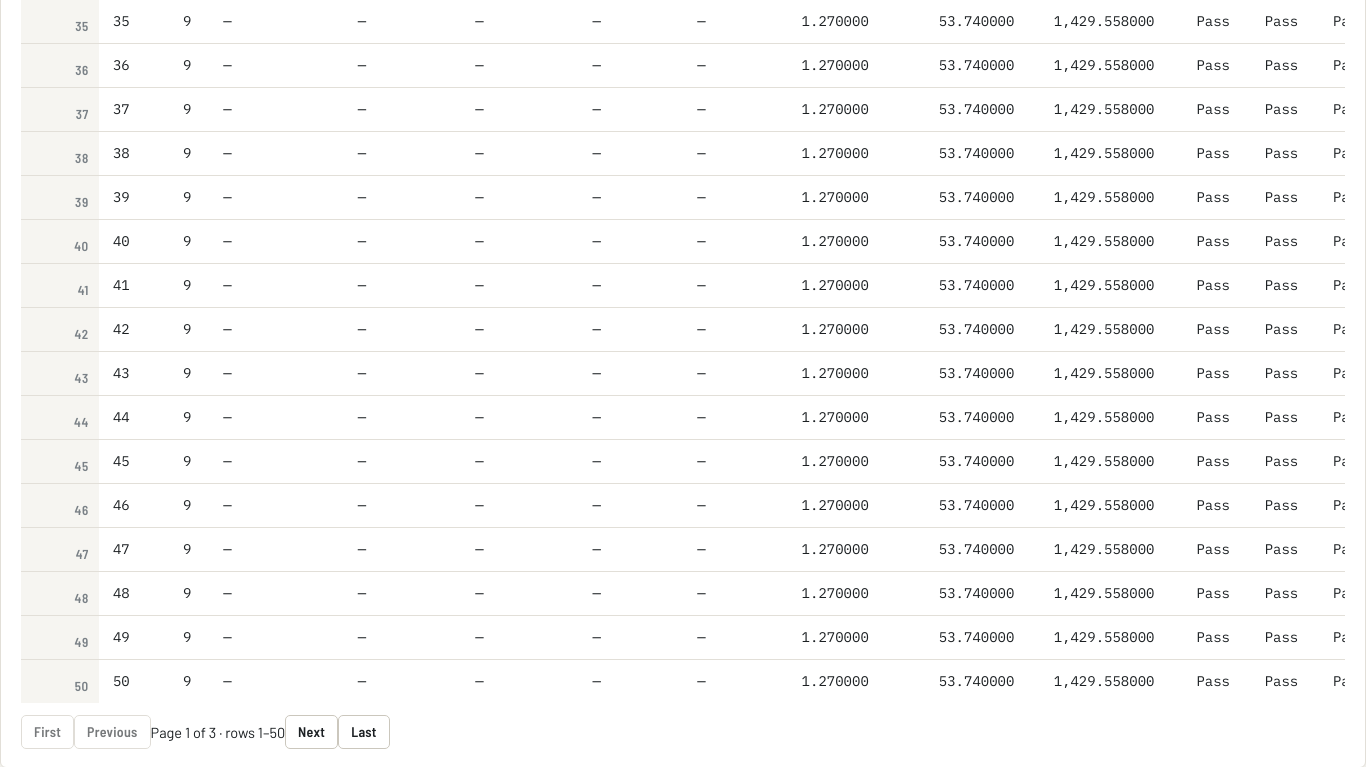
it: allows the first and last attempt to be viewed when more than fifty rows exist
This screenshot has width=1366, height=767.
(page scrolled)
Click the button "Last" at (364, 732), box [338, 715, 390, 749]
(page scrolled)
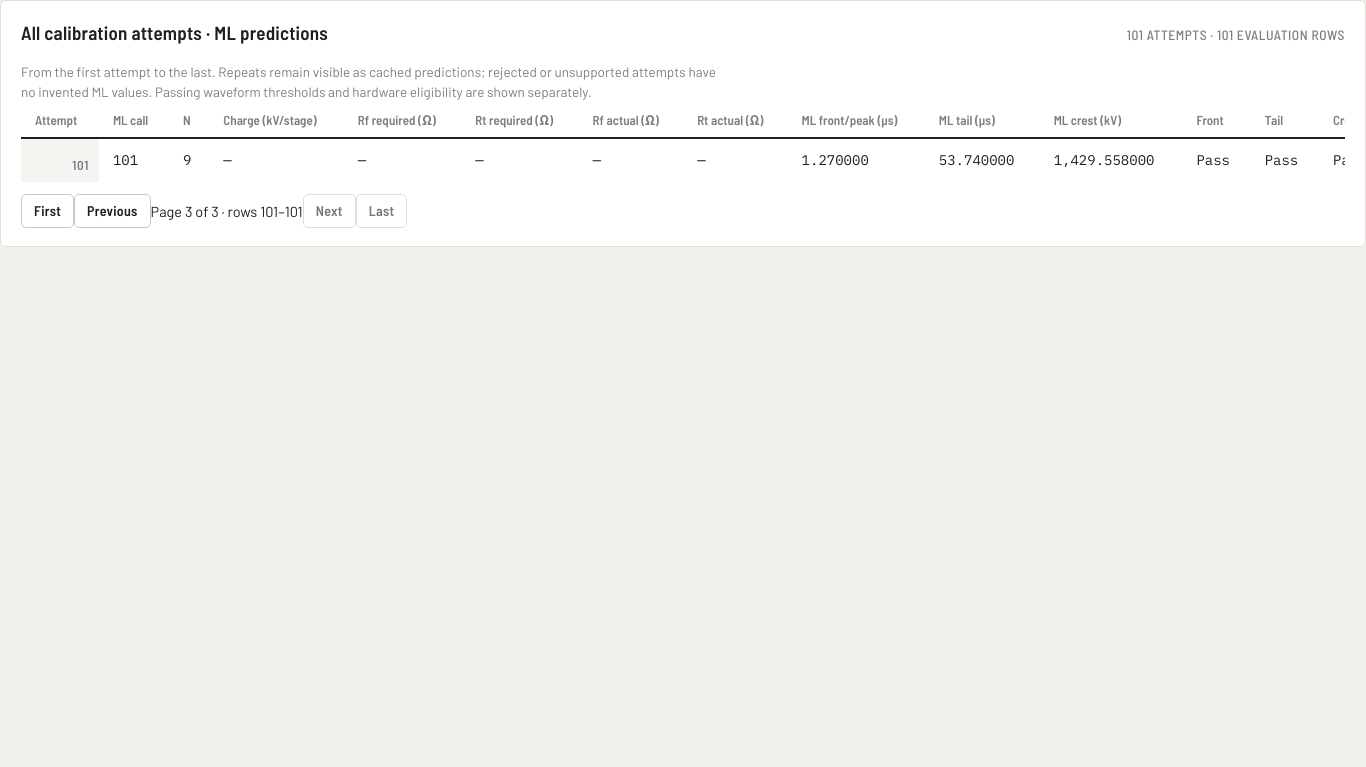
Result: the column heading "101" is shown at [21, 138, 99, 182]
Click the button "First" at (48, 211), box [21, 194, 74, 228]
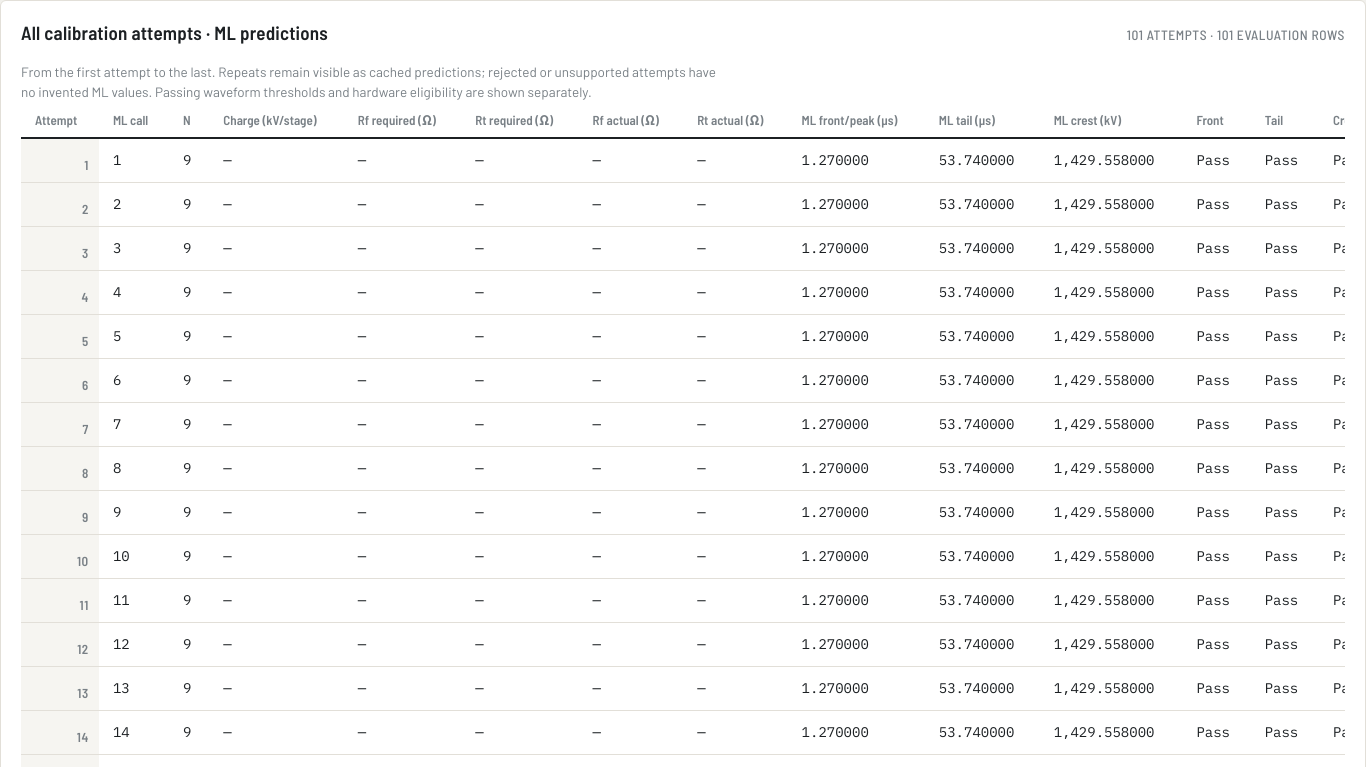
Result: the column heading "1" is shown at [21, 138, 99, 182]
